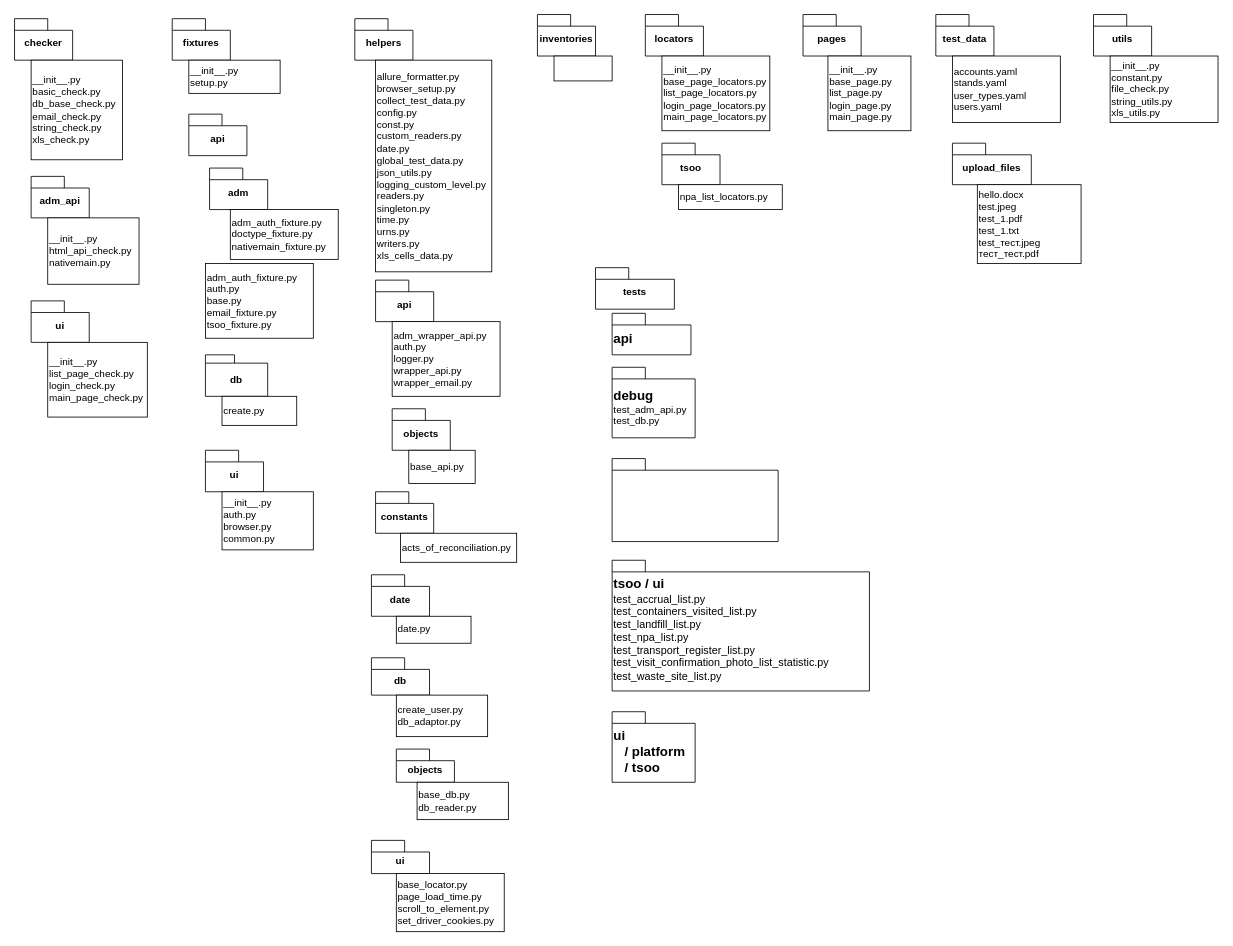
Image size: 1233x946. Some labels were removed from this diagram. The shapes that lost their labels are listed below. From the top down, each one's centre as x and y in pixels, then its label:
At (582,68): "hosts".
At (694,500): "platform test_create_doctype.py test_login.py test_table_setting.py".
